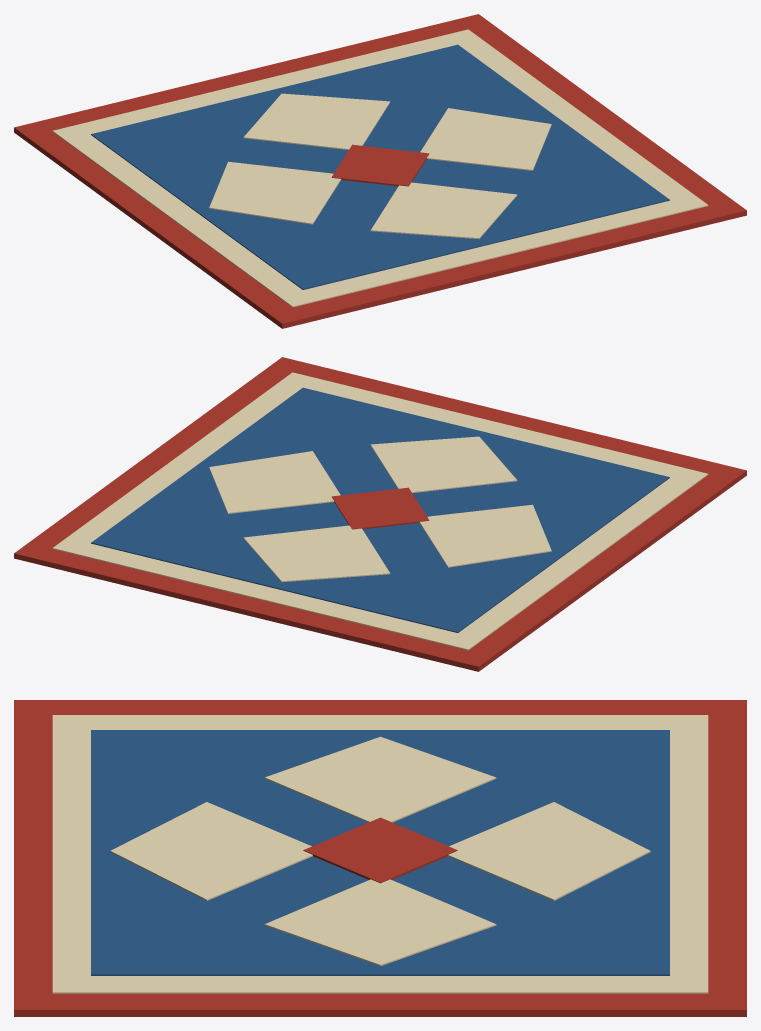
Rendered from rug.glb.
3 views of the same model, one above another, from view 1: azimuth 30°, elevation 25°; view 2: azimuth 150°, elevation 25°; view 3: azimuth 270°, elevation 25° (orthographic). The views are drawn at different scales.
Visible parts, largest first — view 1: rug; view 2: rug; view 3: rug.
Boxes of the visible parts, left/top/right/bottom form: rug: left=14, top=14, right=746, bottom=328; rug: left=14, top=357, right=746, bottom=671; rug: left=14, top=700, right=746, bottom=1016.
Bounding box in the file's own units: 1.9 × 0.034 × 1.9.
